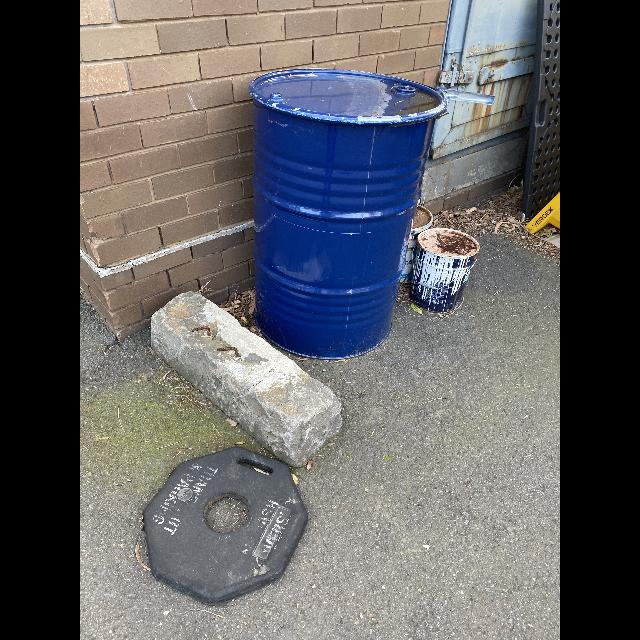Ferrous Metal: (250, 69, 447, 359), (430, 0, 538, 161), (410, 228, 480, 313), (400, 205, 433, 284), (217, 347, 239, 357), (191, 326, 210, 336)
